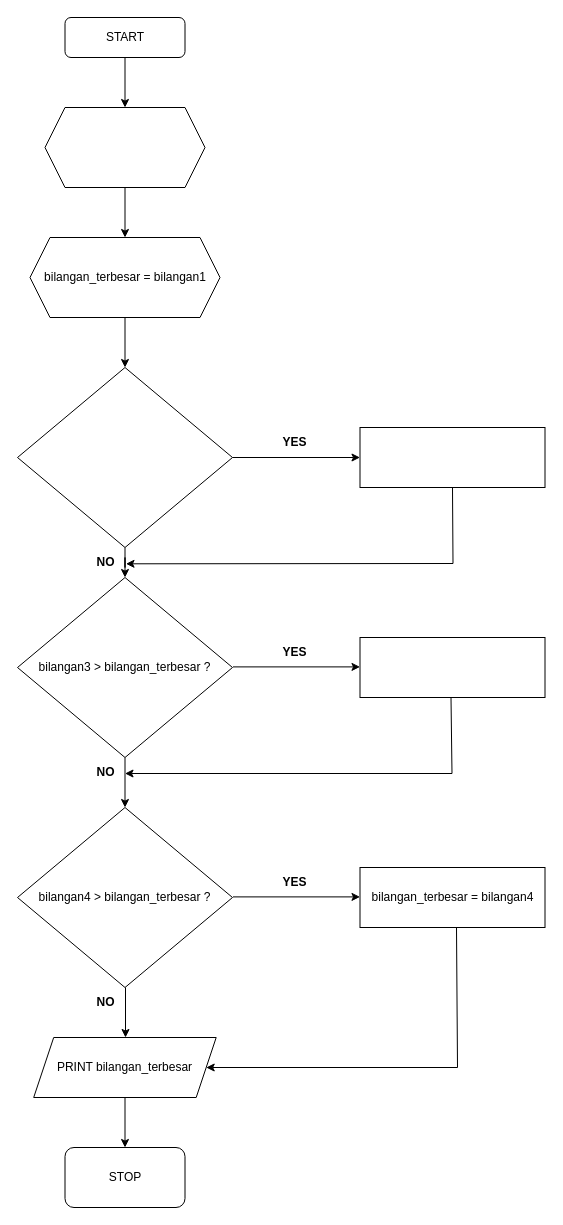
Some shapes in this 563 by 1225 pixel diagram are drawn without their labels. The shapes that lost their labels are listed below. From the top down, each one's box as (x1, y1, x2, y2) in pixels, then its label:
(44, 106, 205, 188): bilangan1 = 60 bilangan2 = 20 bilangan3 = 100 bilangan4 = 40
(16, 366, 232, 548): bilangan2 > bilangan_terbesar ?
(359, 426, 545, 488): bilangan_terbesar = bilangan2
(359, 636, 545, 698): bilangan_terbesar = bilangan3
